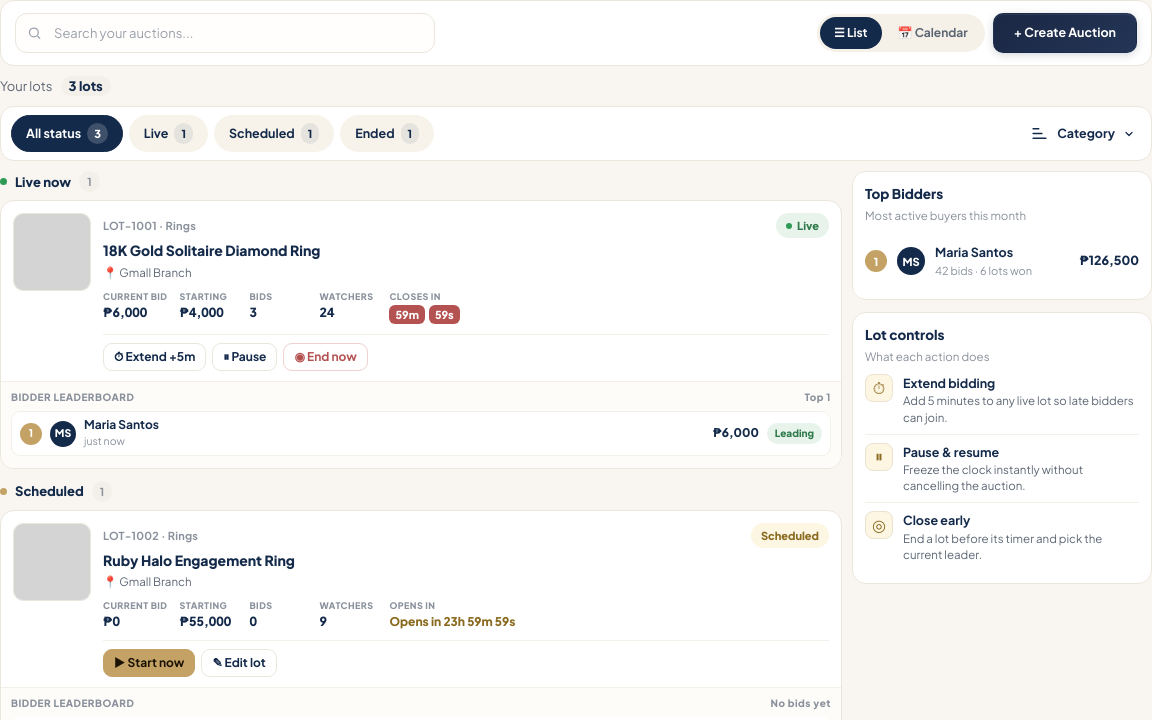
it: status tabs filter
Expected: the text "18K Gold Solitaire Diamond Ring" is shown, 103,241 -> 320,259
Click the tab "Live 1".
click(168, 134)  # box 129,115 -> 208,152
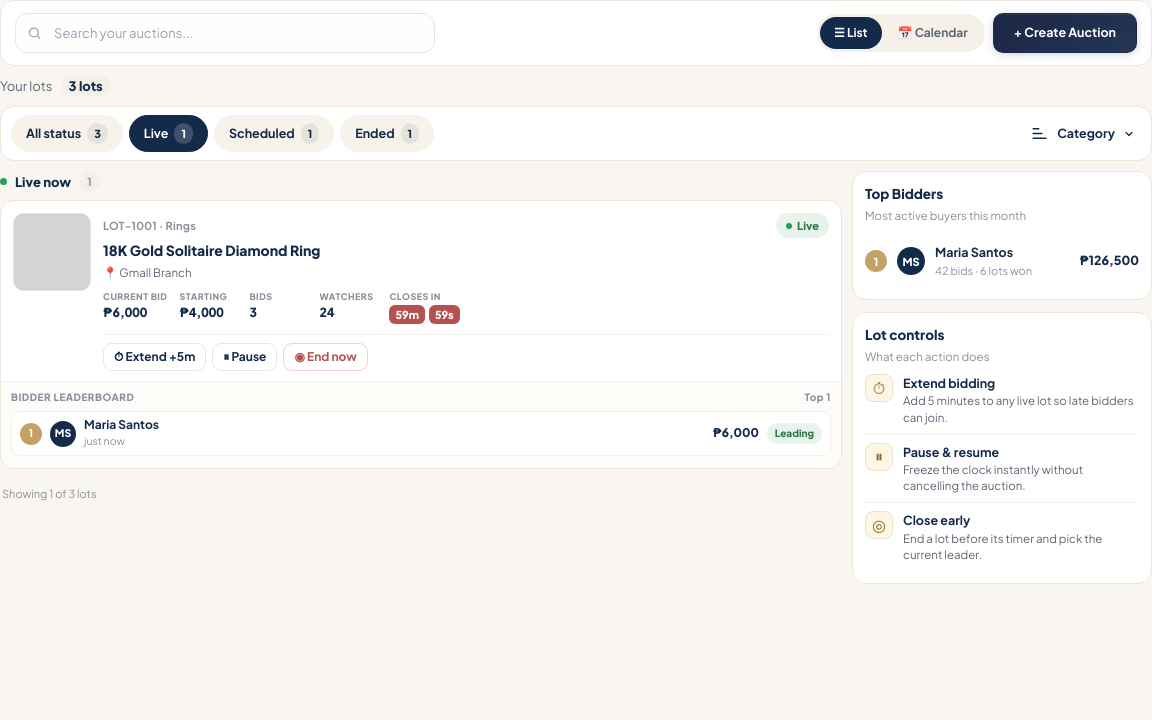
Expected: the text "18K Gold Solitaire Diamond Ring" is shown, 103,241 -> 320,259
Expected: the text "Ruby Halo Engagement Ring" is gone
